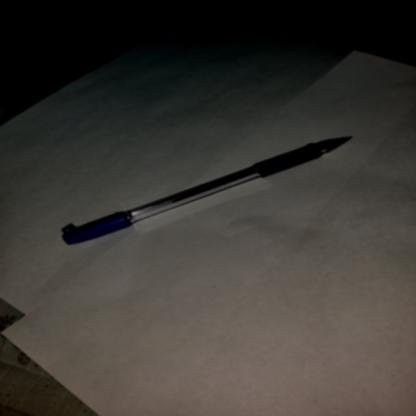Pen: (45, 126, 360, 255)
